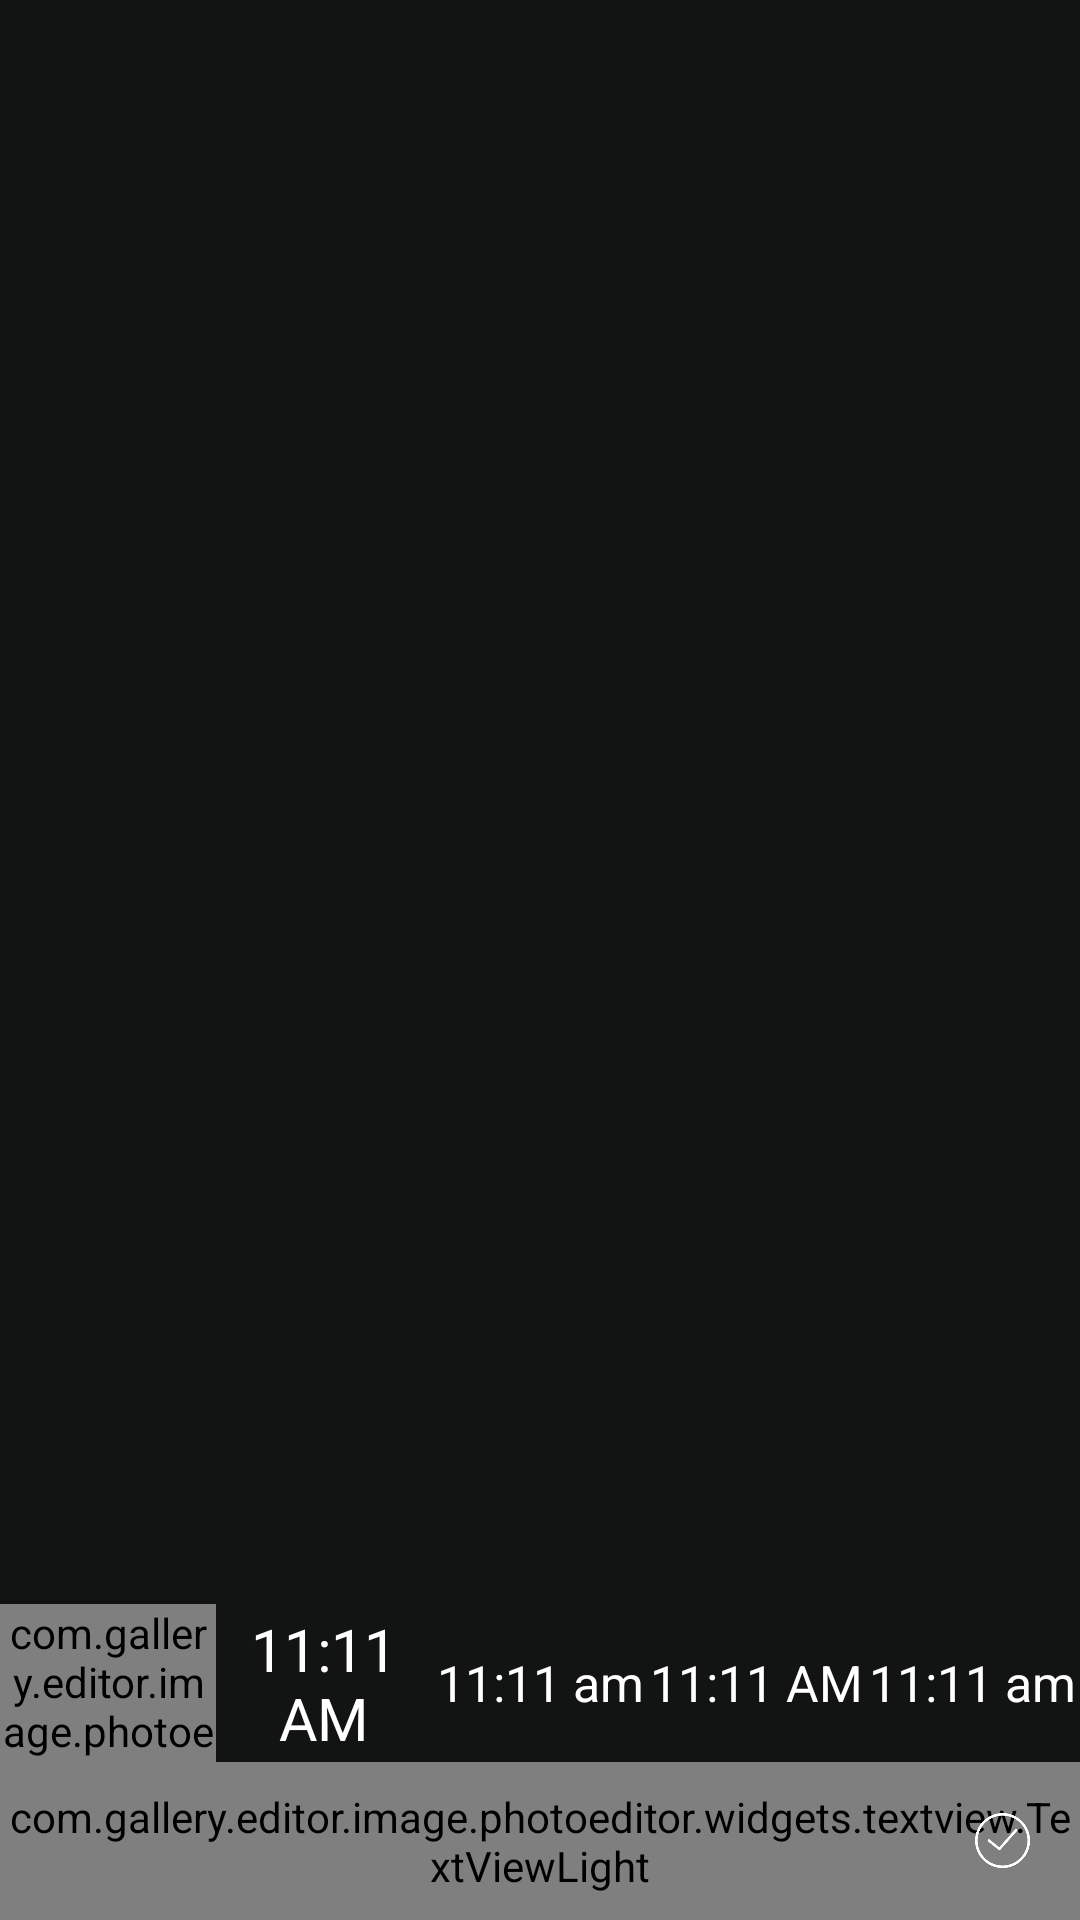

Where icons sit on this 1080×1920 app screen, as (x1, y1, x2, y2):
check: (957, 1803, 1050, 1868)
